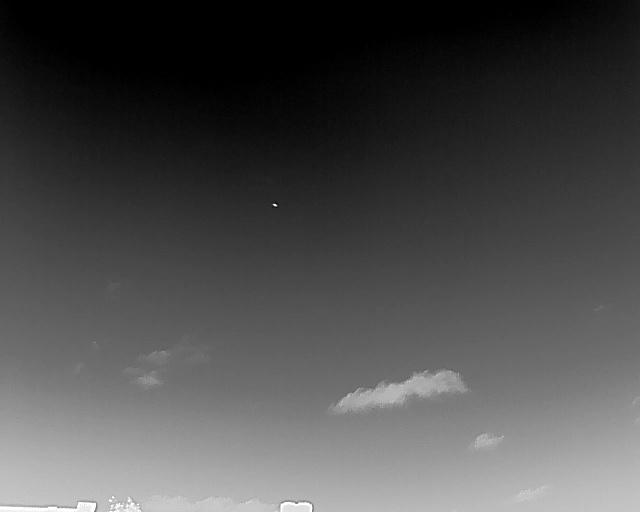fpv-drone: (271, 202, 278, 207)
